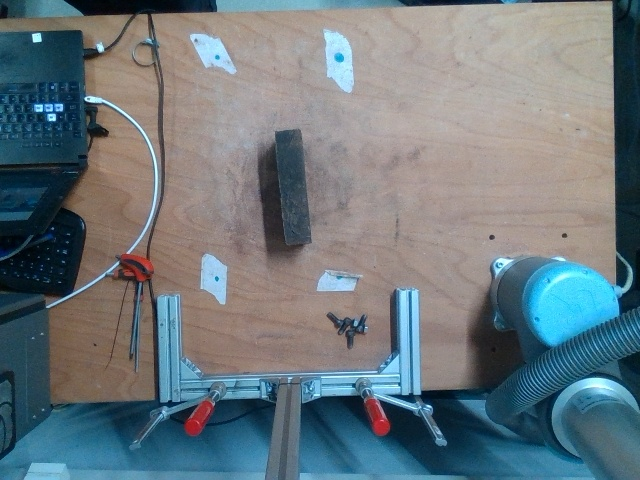brick-side: (272, 128, 310, 242)
